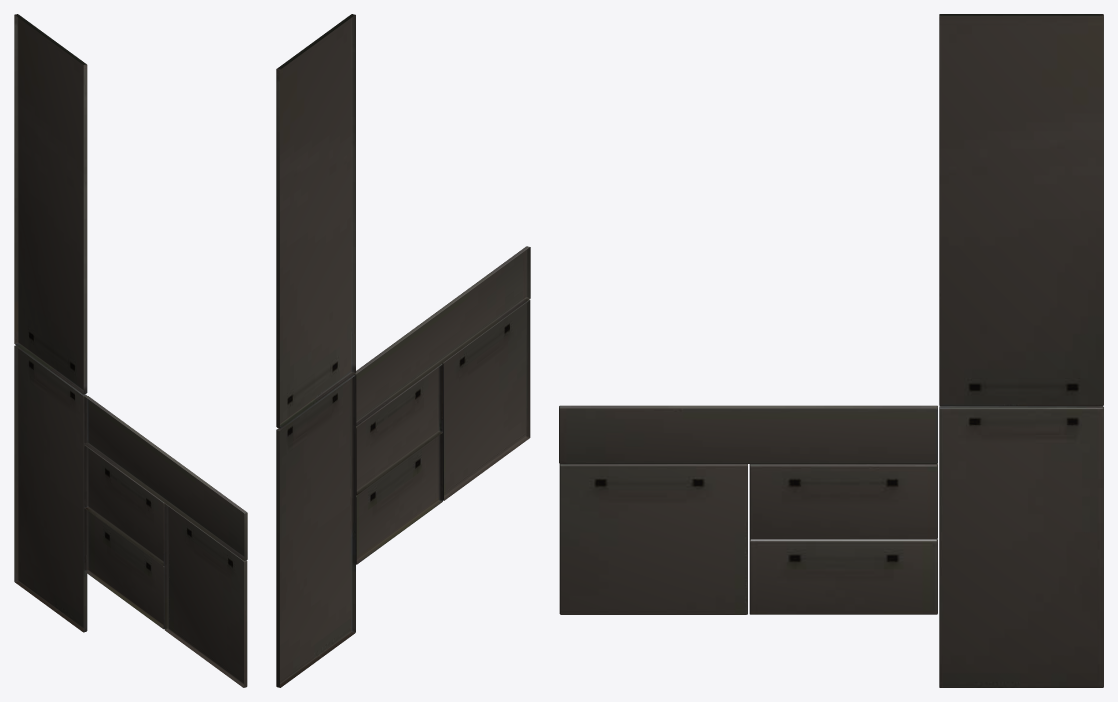
Rendered from 2014_WSJ_JJ_15.FBX.
3 renders of one model, left to right at view 1: azimuth 30°, elevation 25°; view 2: azimuth 150°, elevation 25°; view 3: azimuth 270°, elevation 25°, orthographic. The views are drawn at different scales.
Visible parts, largest first — view 1: 2014_WSJ_JJ_15; view 2: 2014_WSJ_JJ_15; view 3: 2014_WSJ_JJ_15.
Part boxes in pixels (box(x1,y1,x2,y2)): 2014_WSJ_JJ_15: box(14, 14, 247, 687); 2014_WSJ_JJ_15: box(276, 14, 530, 687); 2014_WSJ_JJ_15: box(559, 14, 1103, 687).
Size of the model in its own units: 0.013 by 1.78 by 1.31.
